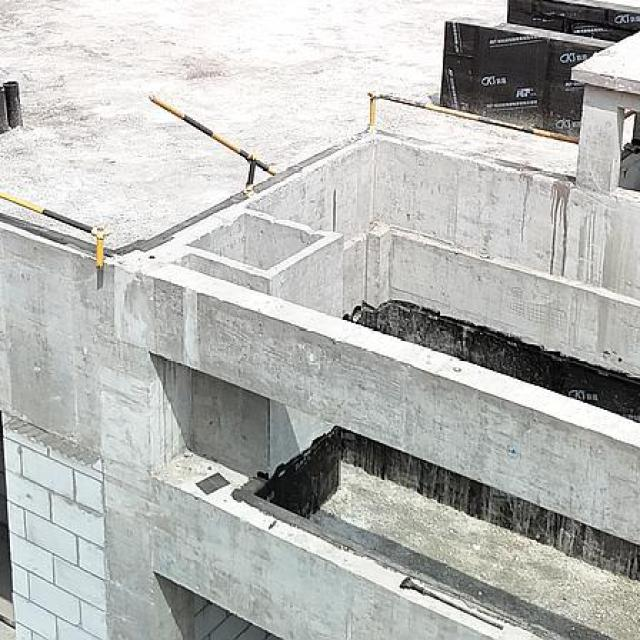edge_guardrail: (368, 88, 582, 146), (150, 95, 277, 191), (0, 192, 106, 272)
